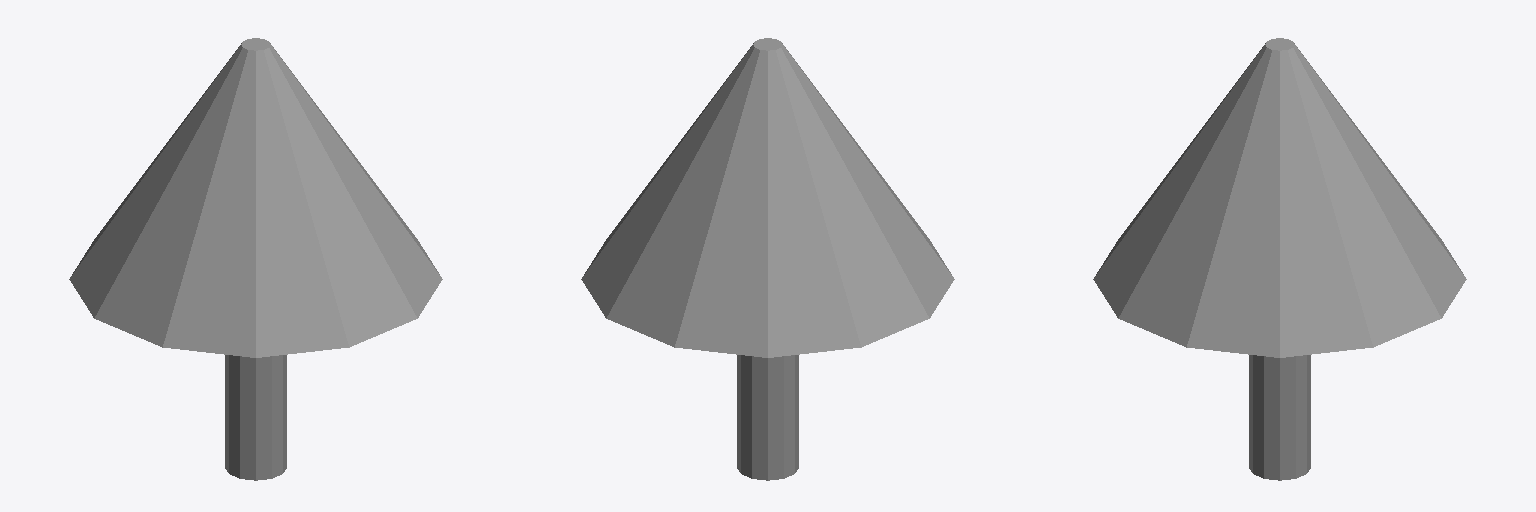
Rendered from tree.obj.
3 views of the same model, side by side, from view 1: azimuth 30°, elevation 25°; view 2: azimuth 150°, elevation 25°; view 3: azimuth 270°, elevation 25° (orthographic).
Visible parts, largest first — view 1: Cylinder; view 2: Cylinder; view 3: Cylinder.
Part boxes in pixels (bbox=[...]): Cylinder: bbox=[69, 38, 442, 480]; Cylinder: bbox=[581, 38, 954, 480]; Cylinder: bbox=[1093, 38, 1466, 480].
Bounding box in the file's own units: 3.59 × 4.49 × 3.59.